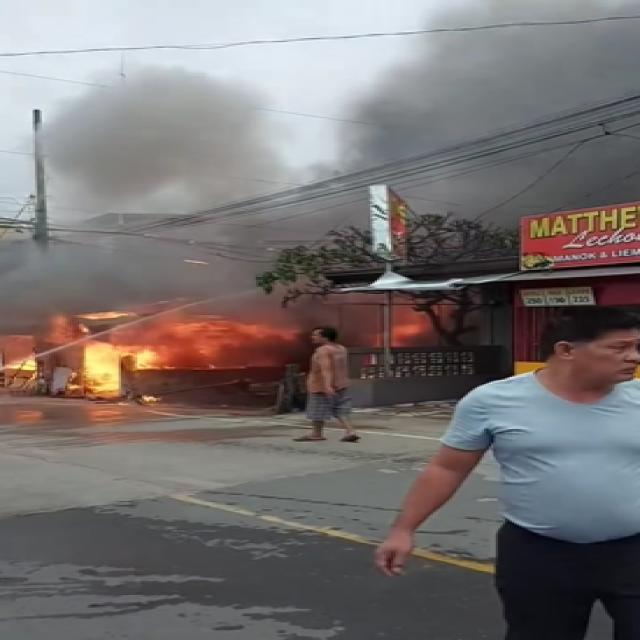Fire: (0, 314, 277, 389)
Smoke: (11, 77, 332, 321), (393, 17, 640, 208)
